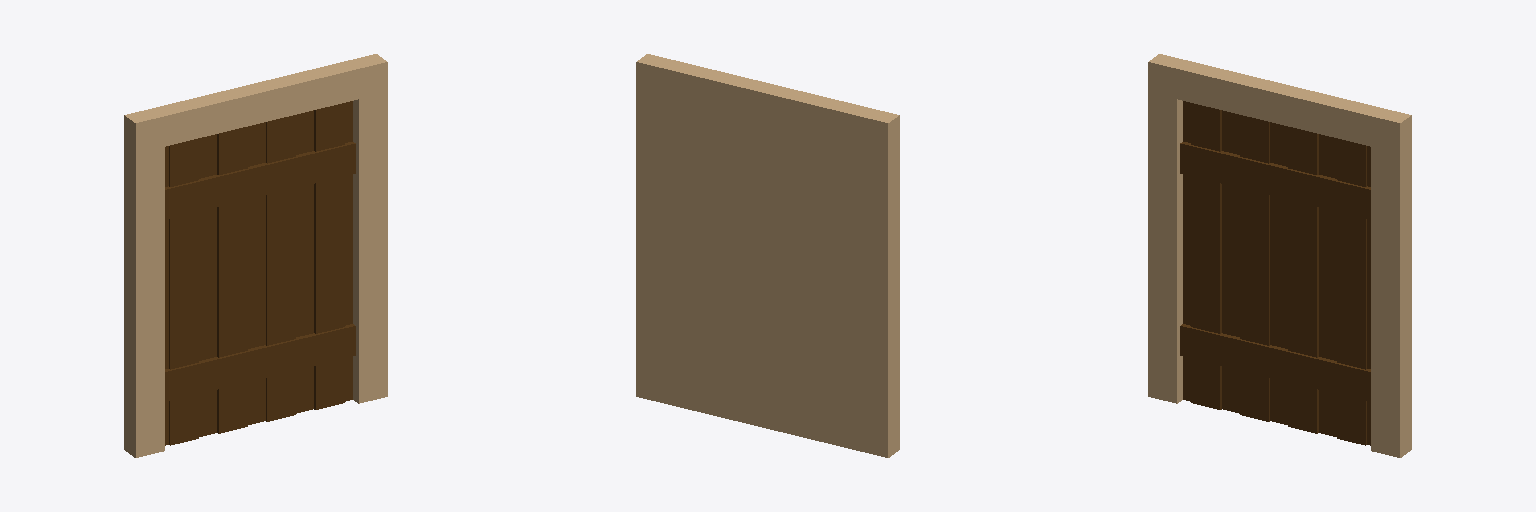
Rendered from Door2.obj.
3 renders of one model, left to right at view 1: azimuth 30°, elevation 25°; view 2: azimuth 150°, elevation 25°; view 3: azimuth 330°, elevation 25°, orthographic.
Size of the model in its own units: 0.52 by 0.66 by 0.04.